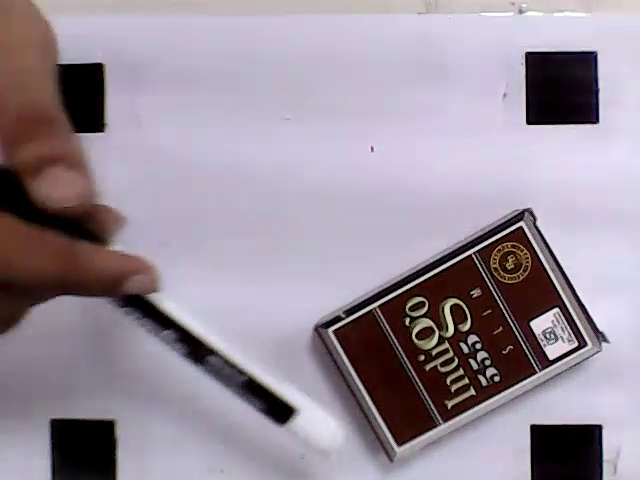BEX: (331, 223, 590, 449)
